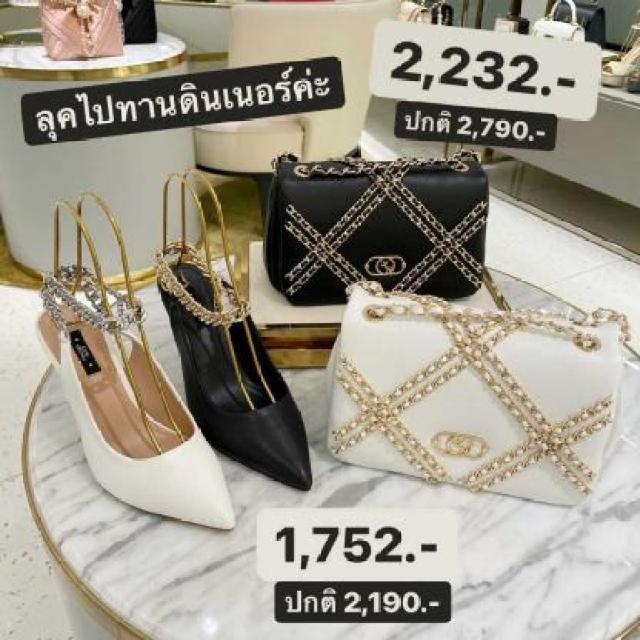Bag: (327, 258, 640, 529), (254, 98, 528, 324)
